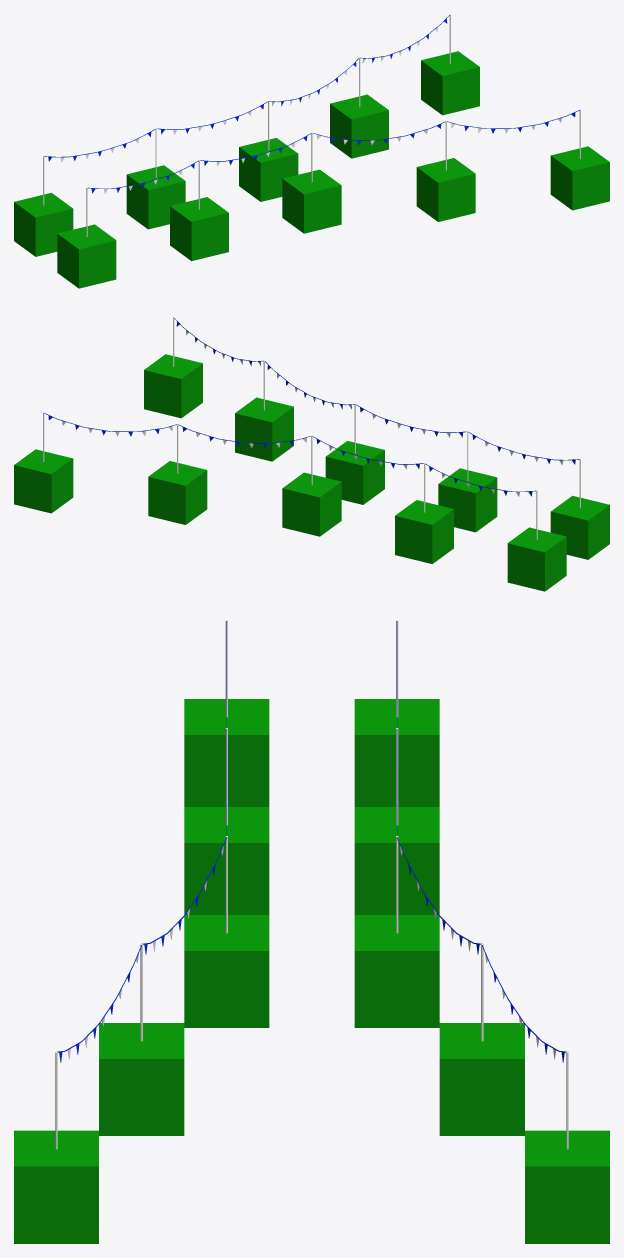
Rendered from Chute7.obj.
3 views of the same model, one above another, from view 1: azimuth 30°, elevation 25°; view 2: azimuth 150°, elevation 25°; view 3: azimuth 270°, elevation 25° (orthographic). The views are drawn at different scales.
Parts seen in each view (by area): view 1: Cube_Cube_Material.001, Cube_Cube_Material.002, Cube_Cube_Material.006, Cube_Cube_Material.005; view 2: Cube_Cube_Material.001, Cube_Cube_Material.002, Cube_Cube_Material.006, Cube_Cube_Material.005; view 3: Cube_Cube_Material.001, Cube_Cube_Material.002, Cube_Cube_Material.006, Cube_Cube_Material.005.
Part boxes in pixels (x1,y1,x2,y2): Cube_Cube_Material.001: (14,51,609,288); Cube_Cube_Material.002: (43,14,580,236); Cube_Cube_Material.006: (44,18,575,193); Cube_Cube_Material.005: (269,15,579,140); Cube_Cube_Material.001: (14,354,609,591); Cube_Cube_Material.002: (43,317,580,539); Cube_Cube_Material.006: (48,321,579,496); Cube_Cube_Material.005: (44,318,354,443); Cube_Cube_Material.001: (14,699,609,1243); Cube_Cube_Material.002: (55,620,568,1149); Cube_Cube_Material.006: (59,621,564,1062); Cube_Cube_Material.005: (57,837,566,1052).
Bounding box in the file's own units: 26 × 4.5 × 14.
